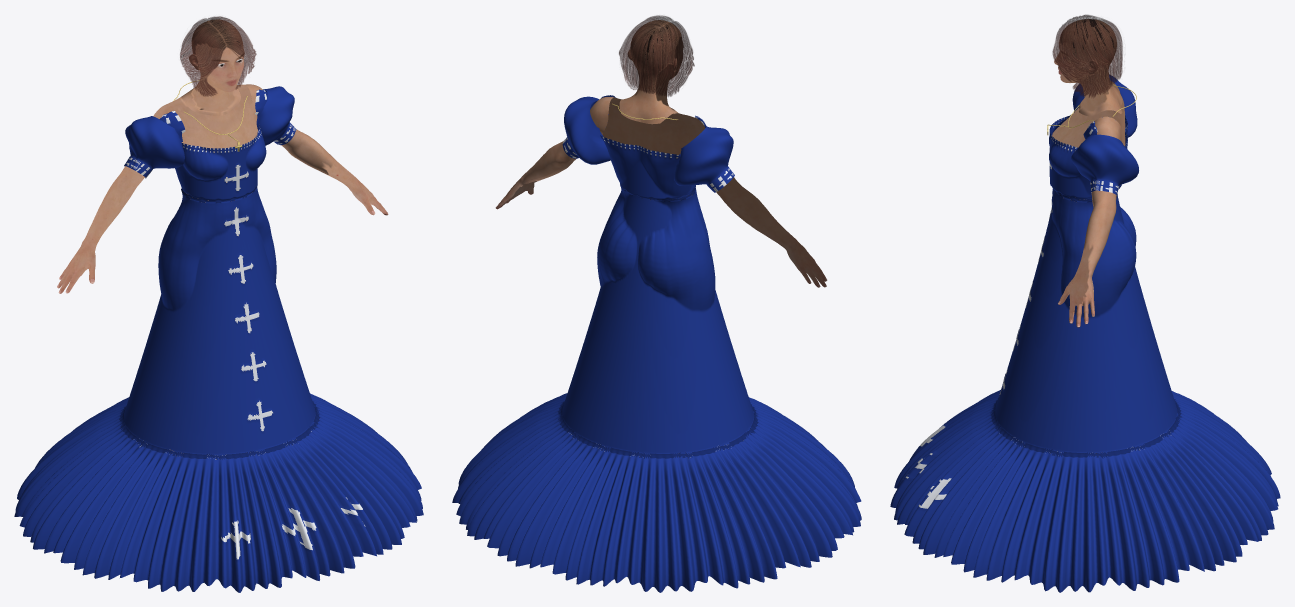
File: female-blue-dress.glb
3 views of the same model, side by side, from view 1: azimuth 30°, elevation 25°; view 2: azimuth 150°, elevation 25°; view 3: azimuth 270°, elevation 25° (orthographic).
Visible parts, largest first — view 1: Cross_Dress, Full_Body_Arms1_0, Full_Body_Mouth Cavity1_0, Cross_Sleeves, Hair_hair1_0, Full_Body_Body1_0, Cross_Straps; view 2: Cross_Dress, Full_Body_Arms1_0, Cross_Sleeves, Hair_hair1_0, Full_Body_Mouth Cavity1_0, Full_Body_Body1_0; view 3: Cross_Dress, Hair_hair1_0, Full_Body_Mouth Cavity1_0, Cross_Sleeves, Full_Body_Arms1_0, Full_Body_Body1_0.
Boxes of the visible parts, box(x1,y1,x2,y2) form: Cross_Dress: box(14, 124, 423, 592); Full_Body_Arms1_0: box(58, 84, 387, 293); Full_Body_Mouth Cavity1_0: box(181, 19, 244, 115); Cross_Sleeves: box(124, 86, 296, 178); Hair_hair1_0: box(180, 16, 256, 96); Full_Body_Body1_0: box(171, 84, 259, 276); Cross_Straps: box(159, 89, 267, 141); Cross_Dress: box(452, 135, 861, 592); Full_Body_Arms1_0: box(496, 97, 826, 287); Cross_Sleeves: box(562, 96, 734, 192); Hair_hair1_0: box(619, 15, 694, 96); Full_Body_Mouth Cavity1_0: box(619, 20, 683, 124); Full_Body_Body1_0: box(602, 97, 692, 195); Cross_Dress: box(890, 115, 1280, 592); Hair_hair1_0: box(1052, 14, 1122, 97); Full_Body_Mouth Cavity1_0: box(1054, 19, 1122, 116); Cross_Sleeves: box(1071, 75, 1138, 197); Full_Body_Arms1_0: box(1058, 80, 1121, 327); Full_Body_Body1_0: box(1052, 83, 1125, 199).
Size of the model in its own units: 1.3 by 1.72 by 1.22.
Materials: 14 (10 with a texture image).
